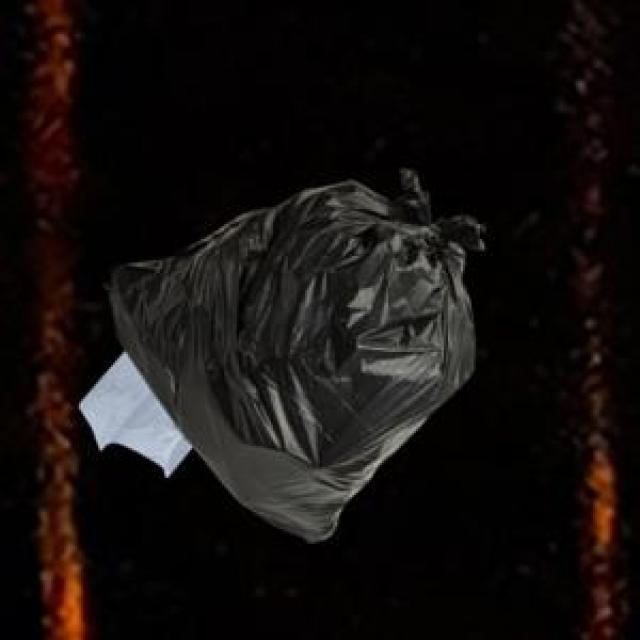miscellaneous trash: (100, 166, 480, 538)
